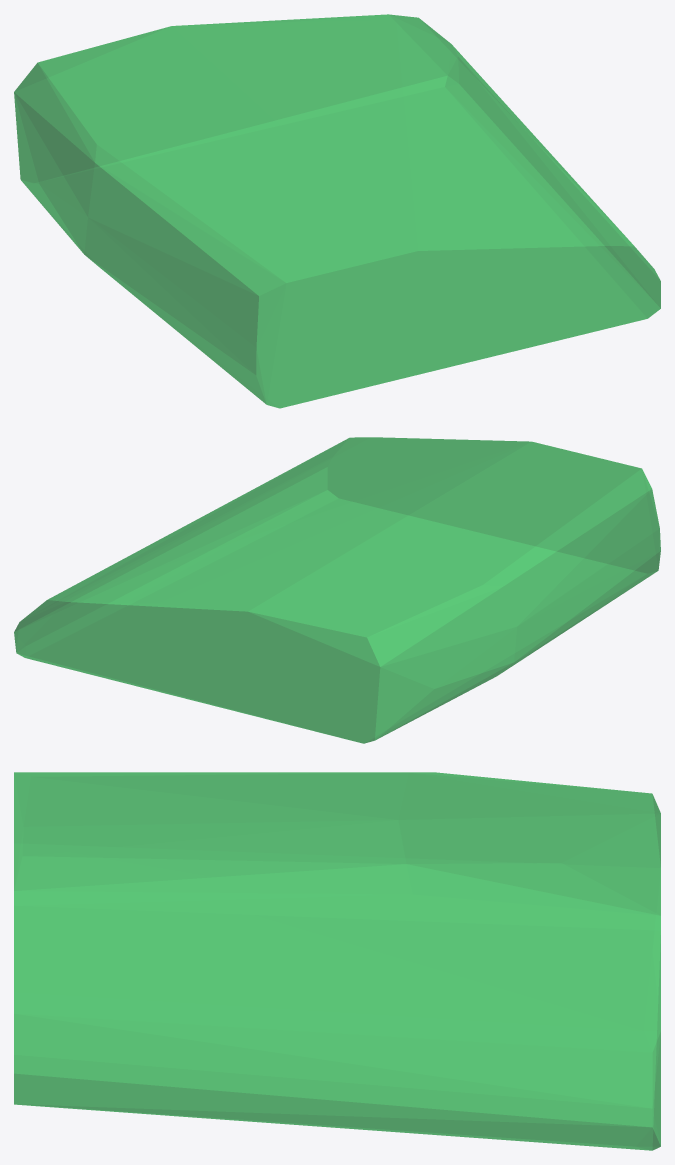
3 views of the same model, one above another, from view 1: azimuth 30°, elevation 25°; view 2: azimuth 150°, elevation 25°; view 3: azimuth 270°, elevation 25° (orthographic). The views are drawn at different scales.
Visible parts, largest first — view 1: Shape_IndexedFaceSet.001_Shape_IndexedFaceSet.12874; view 2: Shape_IndexedFaceSet.001_Shape_IndexedFaceSet.12874; view 3: Shape_IndexedFaceSet.001_Shape_IndexedFaceSet.12874.
Boxes of the visible parts, x1,y1,x2,y2 form: Shape_IndexedFaceSet.001_Shape_IndexedFaceSet.12874: (14,14,660,408); Shape_IndexedFaceSet.001_Shape_IndexedFaceSet.12874: (14,437,660,743); Shape_IndexedFaceSet.001_Shape_IndexedFaceSet.12874: (14,772,660,1150).
Bounding box in the file's own units: 0.1851 × 0.045 × 0.1925.
